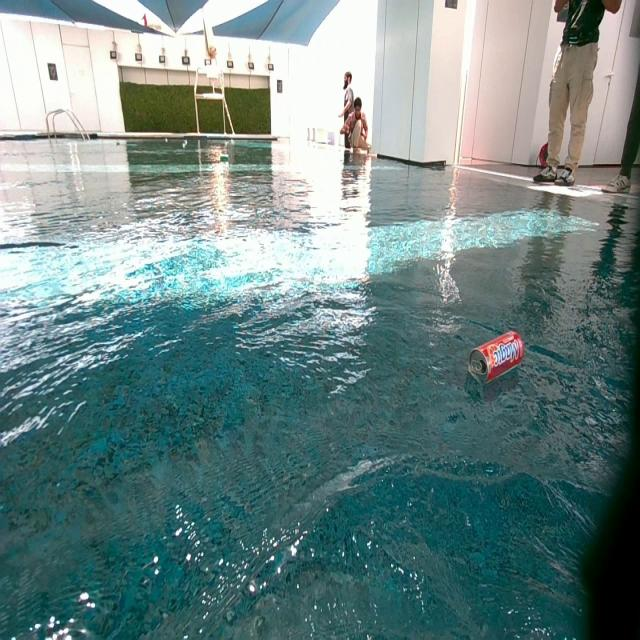Cans: (469, 330, 524, 386), (219, 152, 228, 162), (182, 140, 189, 149), (164, 138, 170, 144), (116, 141, 120, 147)
